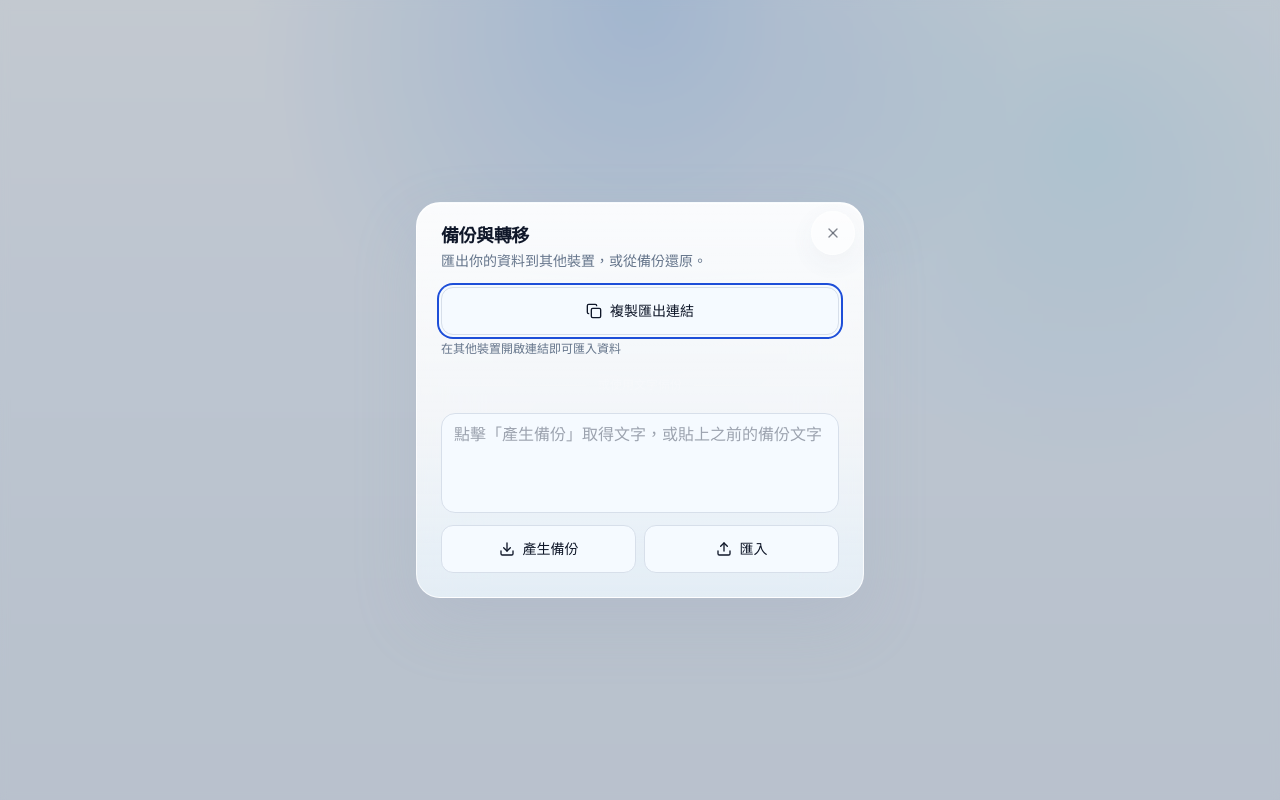
Test case: BackupDialog › should show error when no data to export
The width and height of the screenshot is (1280, 800).
Click the button "產生備份".
click(538, 549)  # box [441,525,636,573]
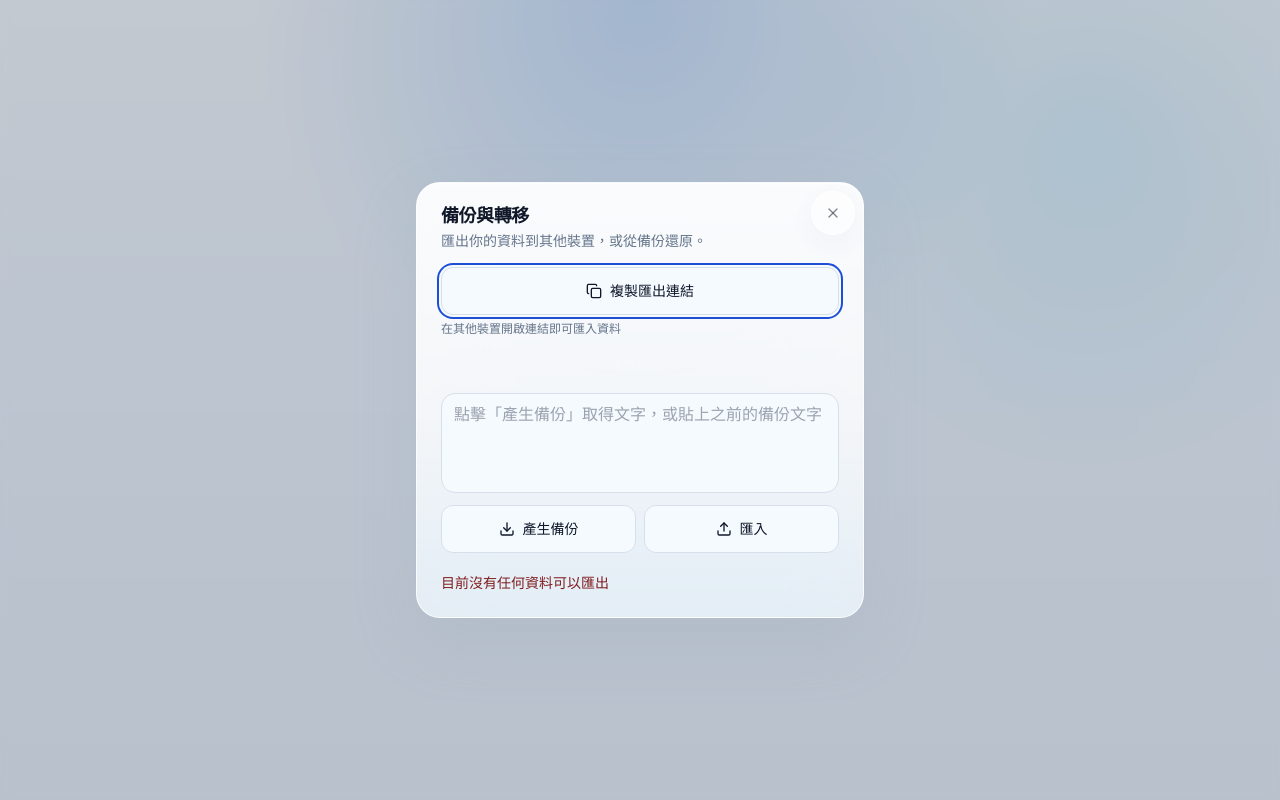
Now the text "目前沒有任何資料可以匯出" is shown, box [441,574,609,591]
